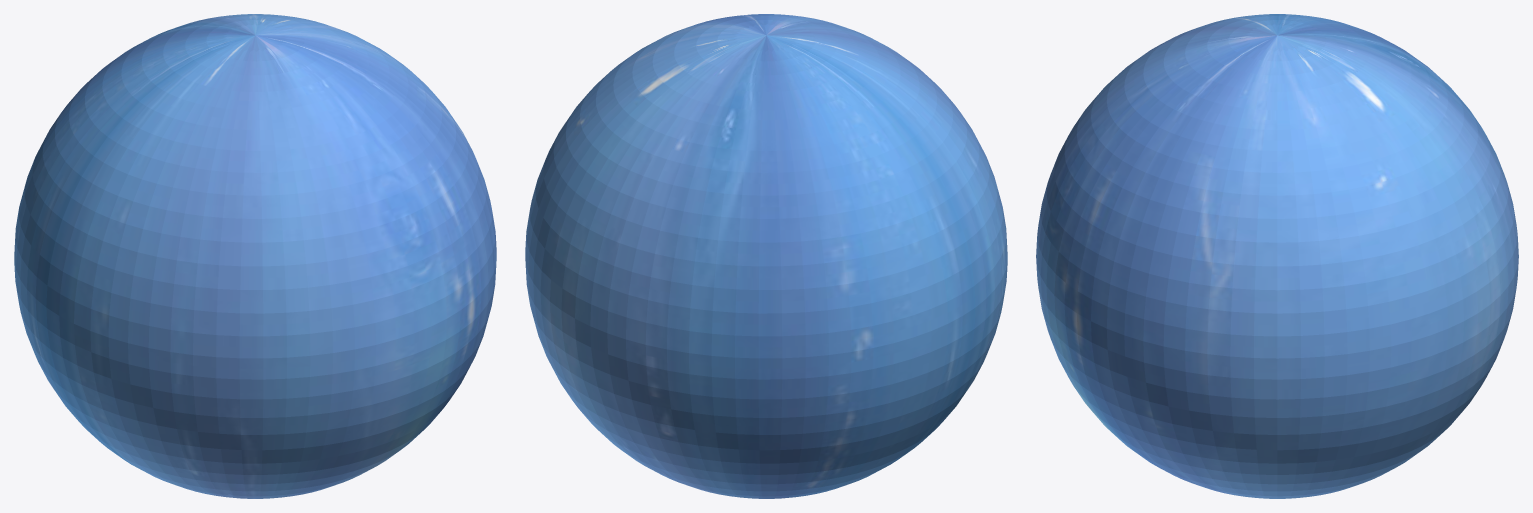
The model's file is Neptune.obj.
3 views of the same model, side by side, from view 1: azimuth 30°, elevation 25°; view 2: azimuth 150°, elevation 25°; view 3: azimuth 270°, elevation 25° (orthographic).
Parts seen in each view (by area): view 1: Neptune; view 2: Neptune; view 3: Neptune.
Boxes of the visible parts, x1,y1,x2,y2 form: Neptune: (14, 14, 496, 498); Neptune: (525, 14, 1007, 498); Neptune: (1036, 14, 1518, 498).
Bounding box in the file's own units: 1.97 × 2 × 1.97.
